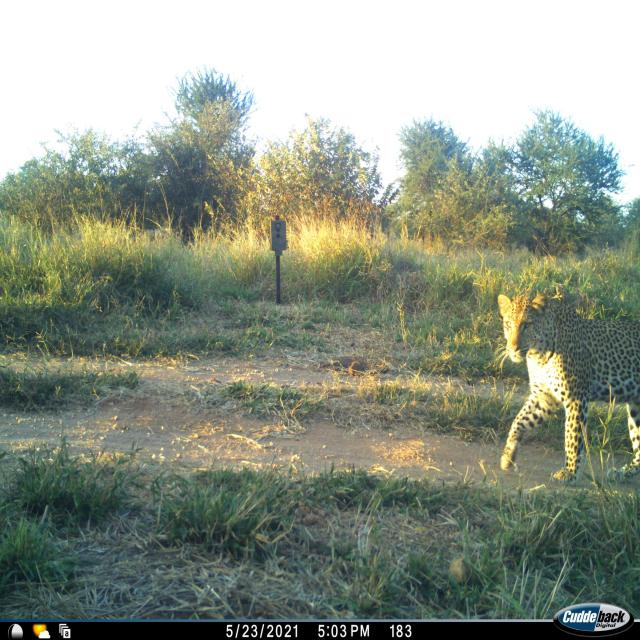Leopard: (496, 292, 640, 498)
